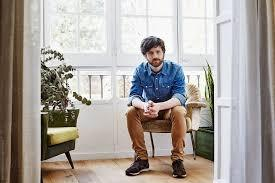FallenBody: (108, 36, 194, 180)
